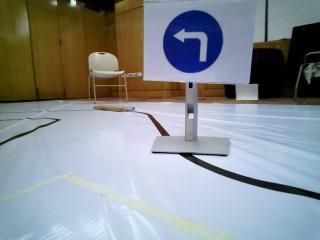left: (143, 1, 244, 81)
